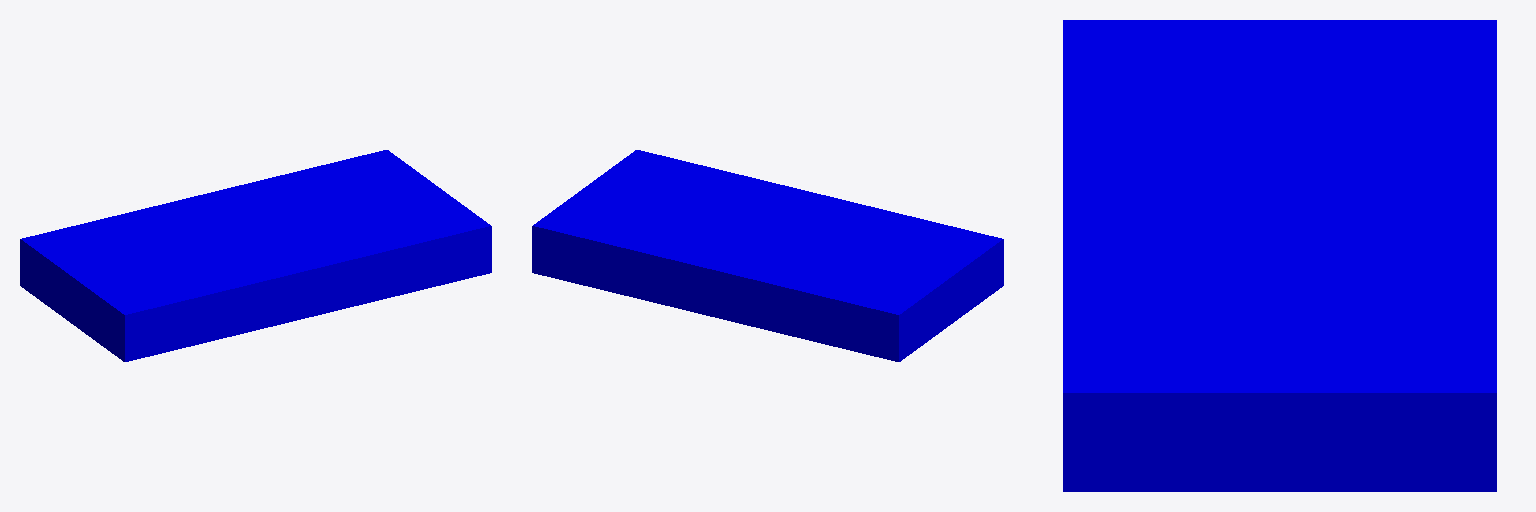
robot.urdf — wamv:
<?xml version="1.0"?>
<robot name="wamv">
  <link name="base_link">
    <visual>
      <geometry>
        <box size="4.06 2.0 0.5"/>
      </geometry>
      <material name="blue">
        <color rgba="0 0 1 1"/>
      </material>
    </visual>
  </link>
</robot>

--- What the picture shows (computed from the rendered views, not written in the file) ---
Views: 3 orthographic renders of the robot side by side, from view 1: azimuth 30°, elevation 25°; view 2: azimuth 150°, elevation 25°; view 3: azimuth 270°, elevation 25°.
Model wamv with 1 links and 0 joints (none), rooted at base_link, posed all joints at 0.
Visible links, largest first — view 1: base_link; view 2: base_link; view 3: base_link.
Boxes of the visible links, box(x1,y1,x2,y2) form: base_link: box(20, 150, 491, 361); base_link: box(532, 150, 1003, 361); base_link: box(1063, 20, 1496, 491).
Size in the robot's own frame: 4.06 by 2 by 0.5 metres.
Geometry: primitives only (box / cylinder / sphere), no mesh files.